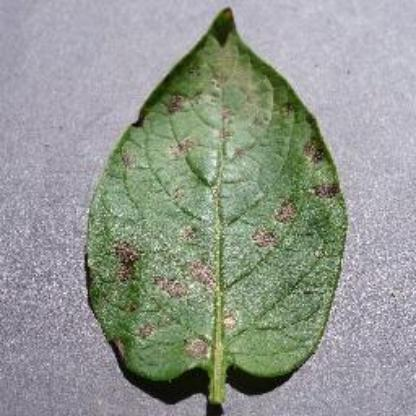Early-Blight: (80, 6, 350, 408)
